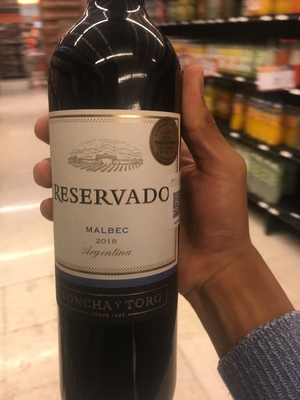reservado malbec: (49, 5, 191, 400)
